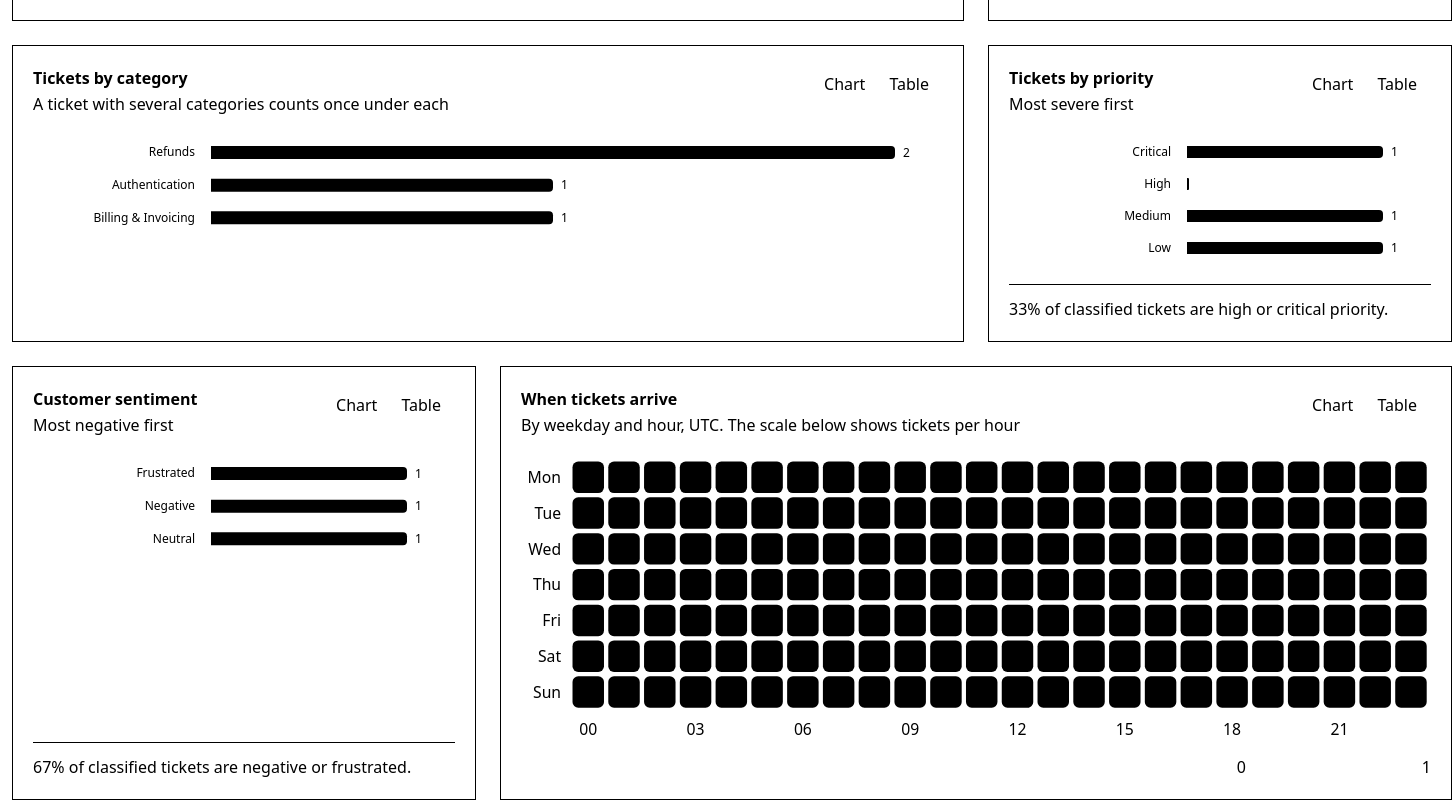
ReportDashboard › every chart has a table twin that matches the numbers › arrivals: a 7-row weekday x 24-hour table whose cells add up to the ticket count
The width and height of the screenshot is (1452, 806).
(page scrolled)
What coordinates should you click on to do the following:
click the button "table" in the row of "When tickets arrive"
I would click on:
 (1397, 405)
Its box is [1365,389,1429,421].
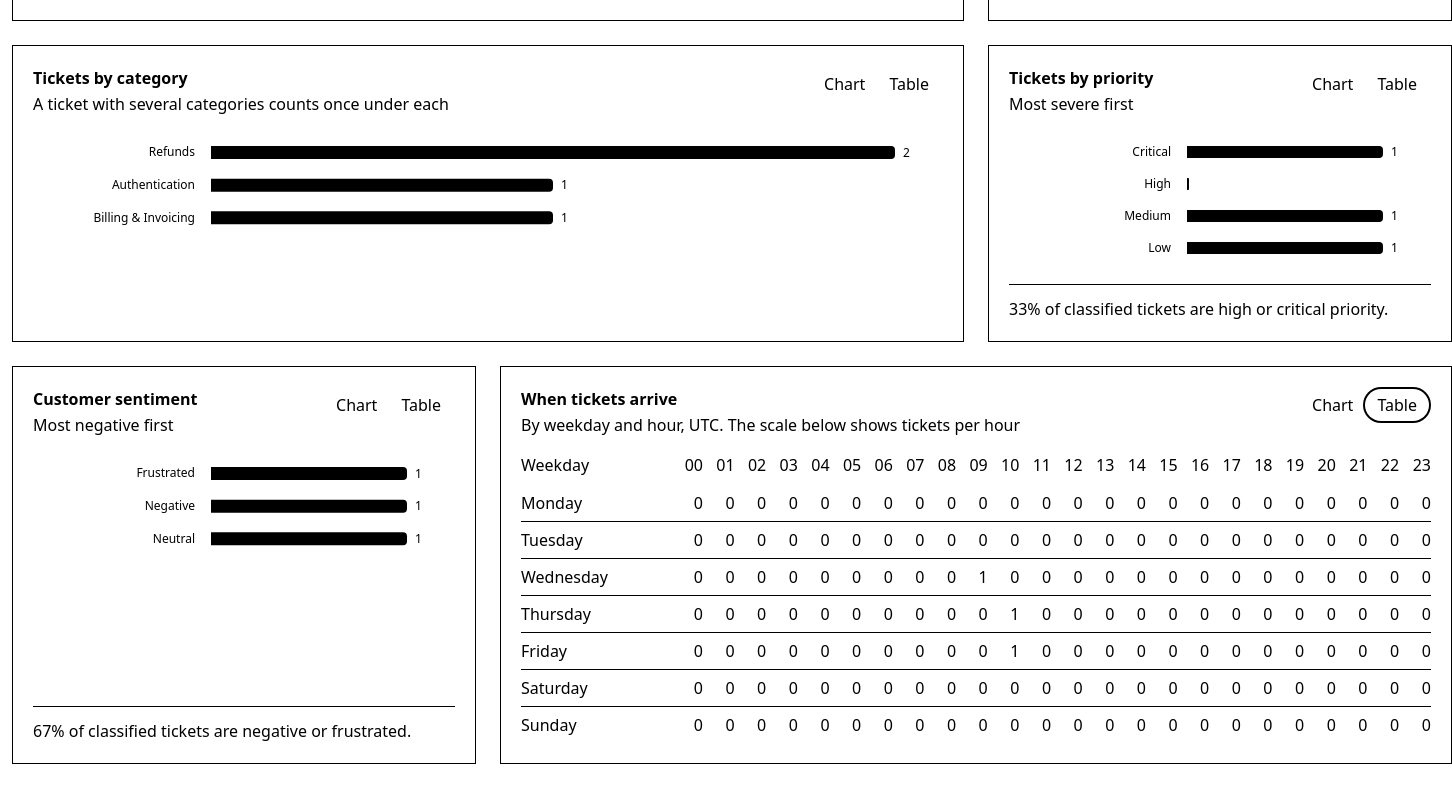
Now the number of column headings is 25
